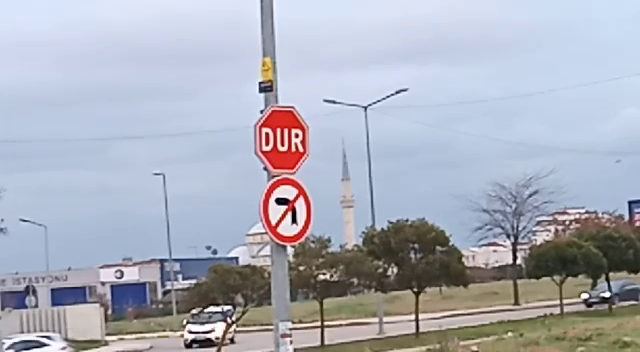no_left: (258, 175, 316, 249)
stop: (252, 104, 312, 176)
